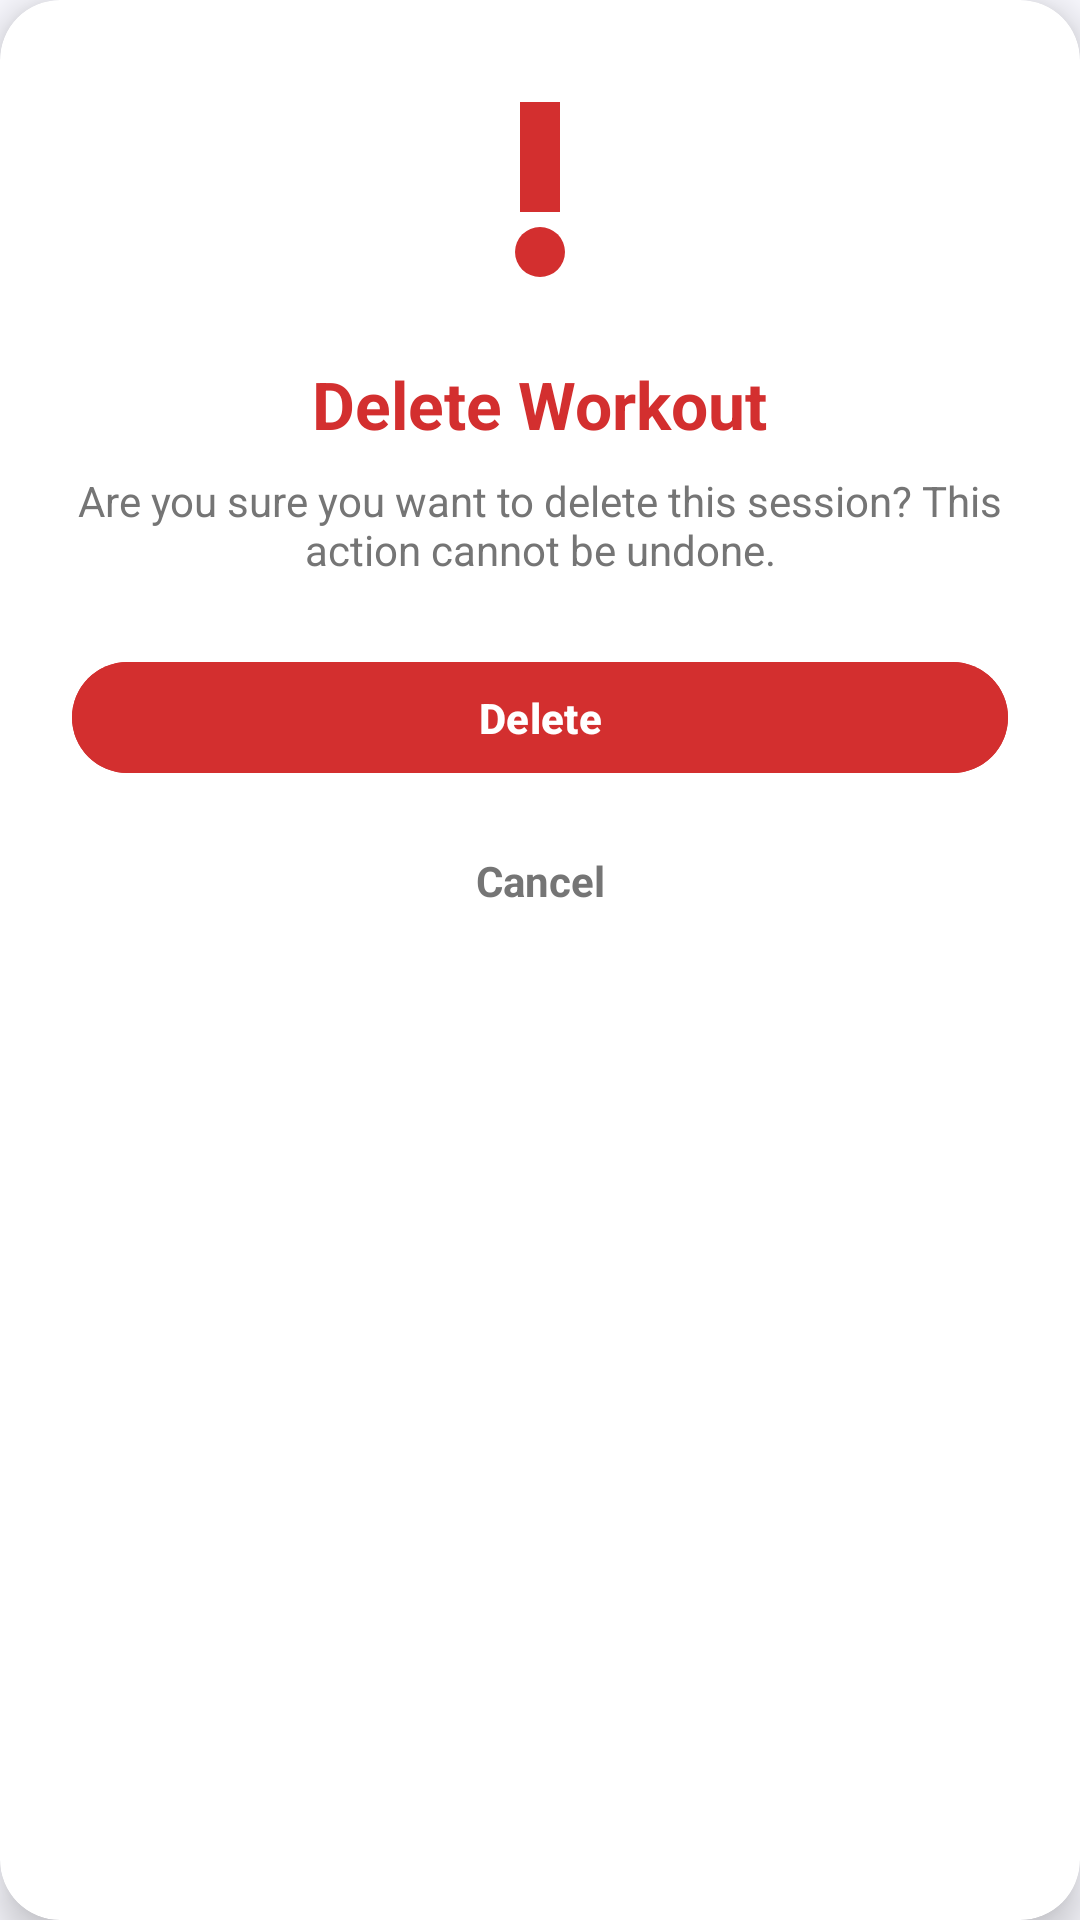

Locate icon controls on the screen. Image size 1080 x 1920, boxes as (x1, y1, x2, y2).
error: (515, 102, 565, 277)
